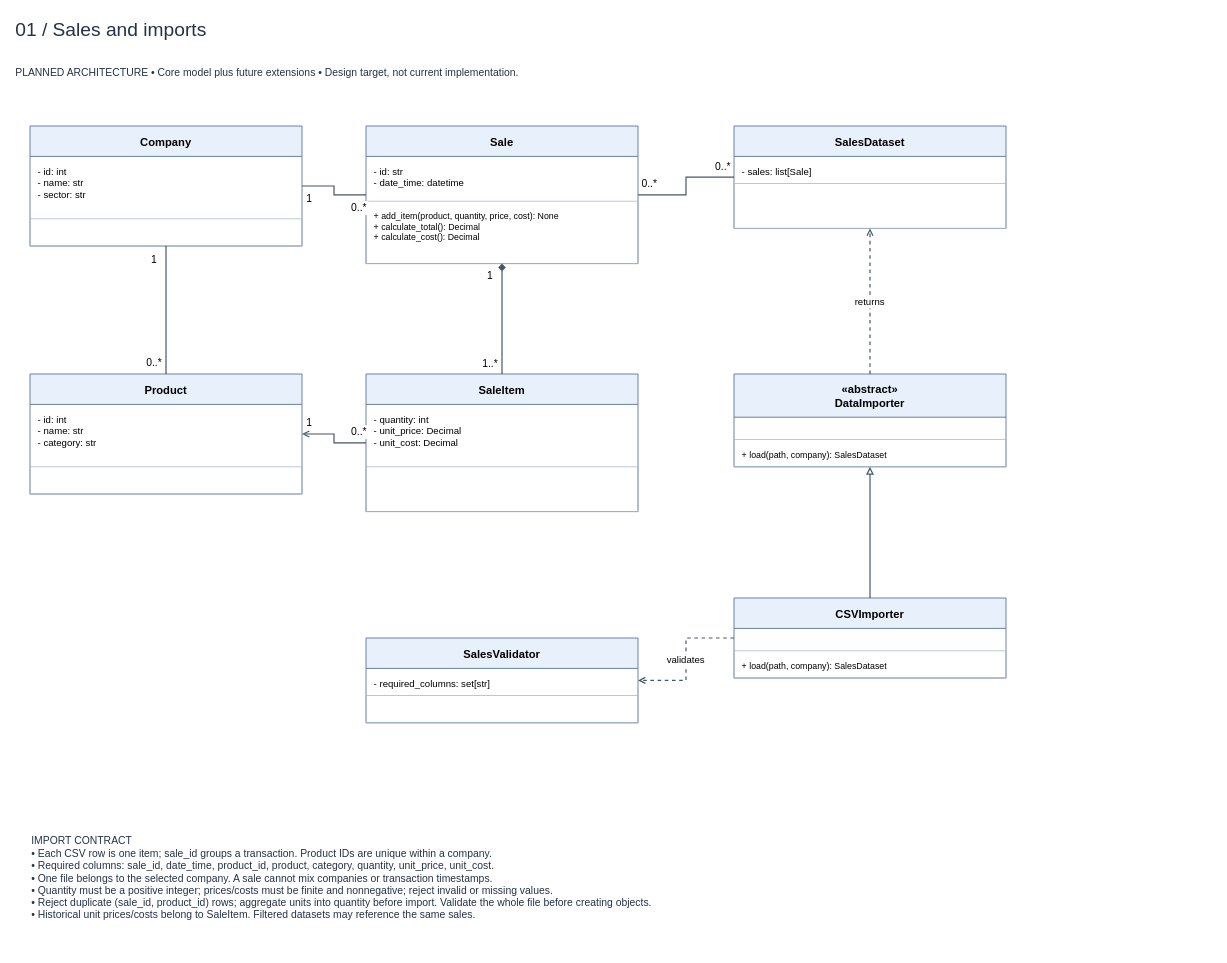
Image size: 1227x963. Some labels were removed from this diagram. The centre of each missing label's shape, as x and y in pixels:
+ calculate_subtotal(): Decimal + calculate_cost(): Decimal: (501,489)
+ filter_period(start, end): SalesDataset + to_dataframe(): DataFrame: (869,205)
+ update_details(name, category): None: (165,480)
+ update_details(name, sector): None: (165,232)
+ validate(data: DataFrame): None: (501,709)
